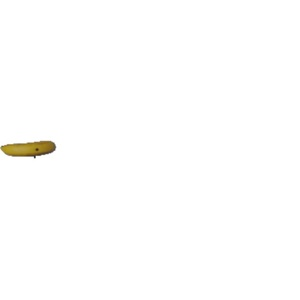banana: (2, 133, 58, 165)
